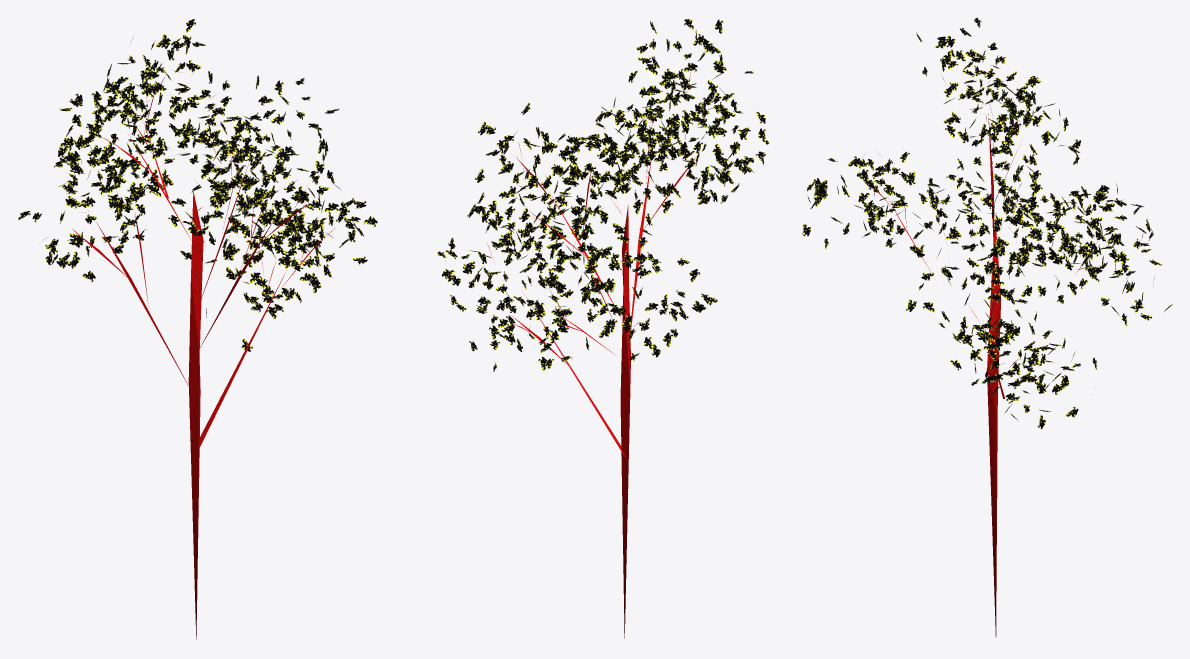
The model's file is birch_pale_v02_LOD2.glb.
The picture shows the model from 3 angles, left to right: view 1: azimuth 30°, elevation 25°; view 2: azimuth 150°, elevation 25°; view 3: azimuth 270°, elevation 25°; orthographic projection. The views are drawn at different scales.
Parts seen in each view (by area): view 1: birch_pale_v02_LOD2; view 2: birch_pale_v02_LOD2; view 3: birch_pale_v02_LOD2.
Part boxes in pixels (<box>): birch_pale_v02_LOD2: <box>18,19,377,639</box>; birch_pale_v02_LOD2: <box>437,19,769,638</box>; birch_pale_v02_LOD2: <box>802,18,1172,637</box>.
Size of the model in its own units: 9.71 by 18.26 by 10.37.
2 materials, 2 textured.
